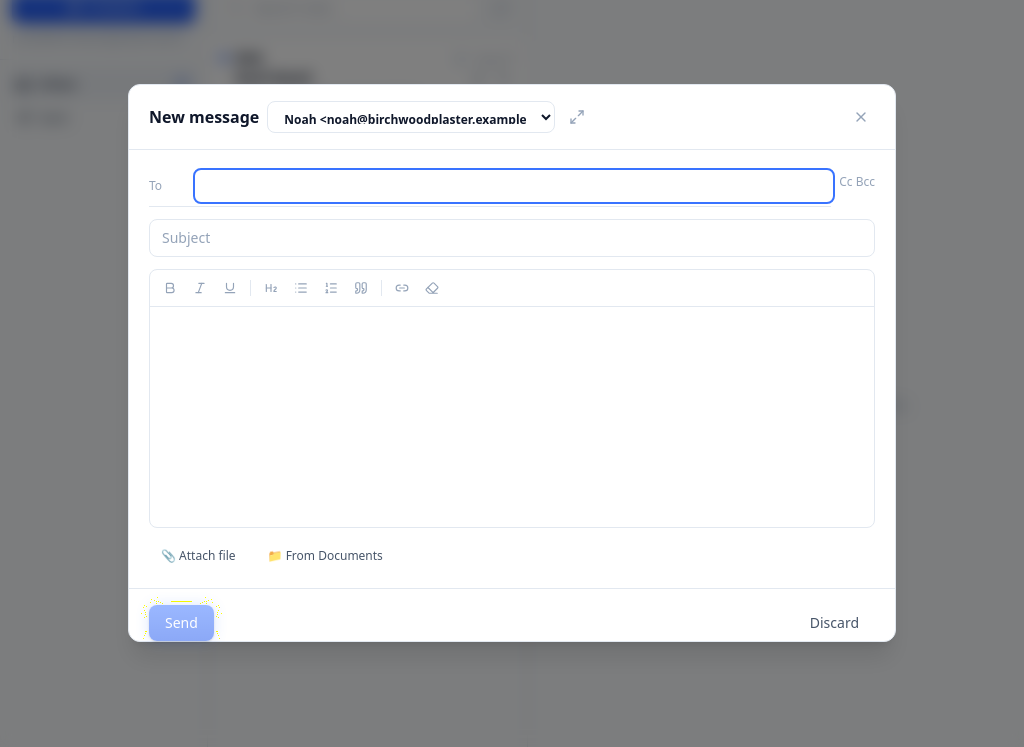
Test: MailPage › compose and reply › clears ?compose=1 and closes the modal when it is dismissed
Check: the text "Roof detail" is shown, box [236, 68, 312, 87]
Click the button named "Close dialog" at (861, 117), box [847, 103, 875, 131]
(page scrolled)
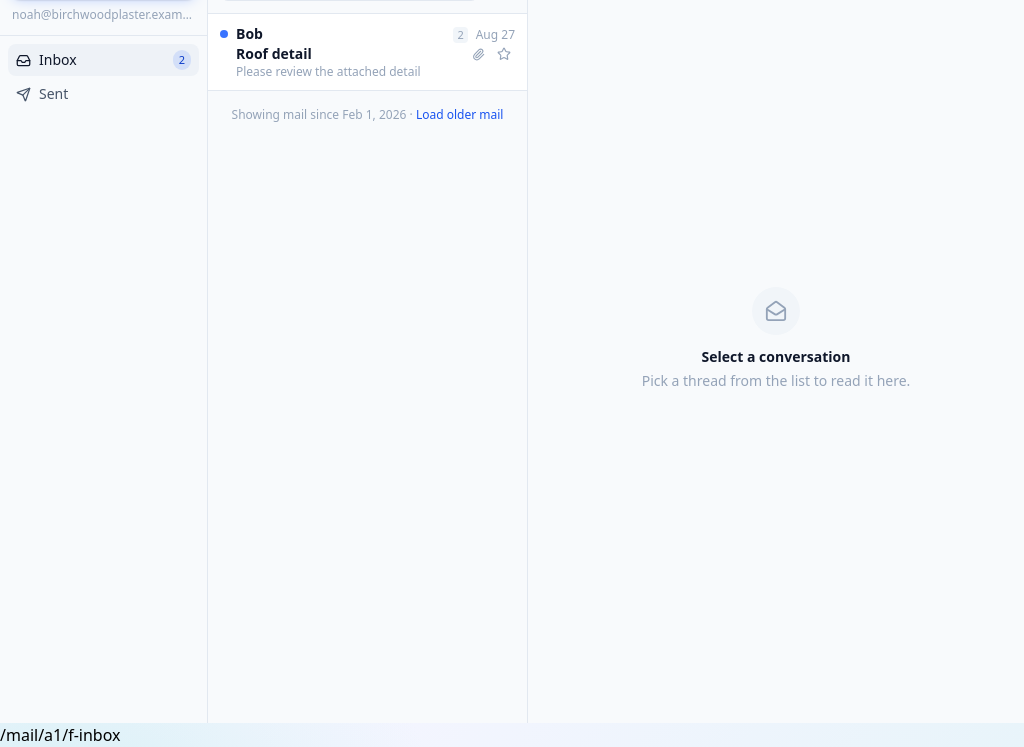
Check: the text with test id "loc" reads "/mail/a1/f-inbox", box [0, 724, 120, 746]
Check: the dialog is gone
